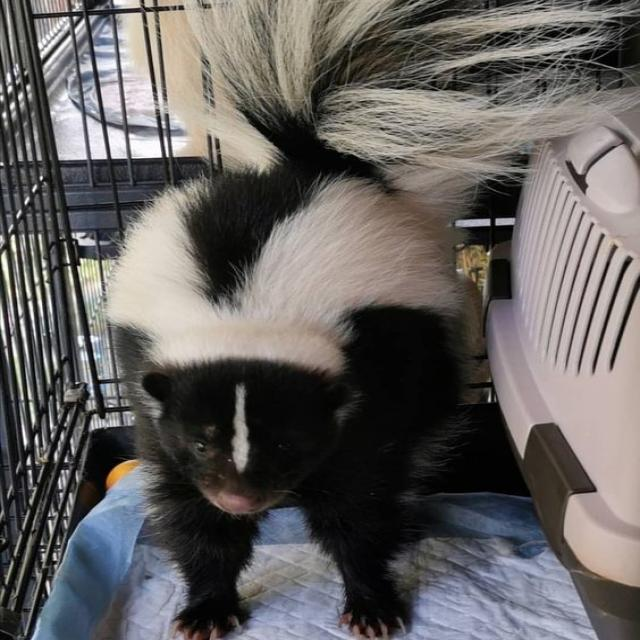Skunk: (65, 0, 540, 617)
